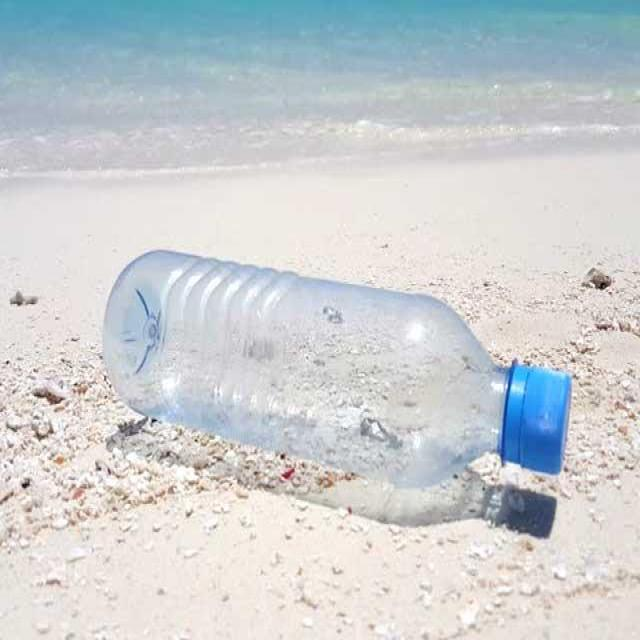bottle: (71, 220, 595, 567)
